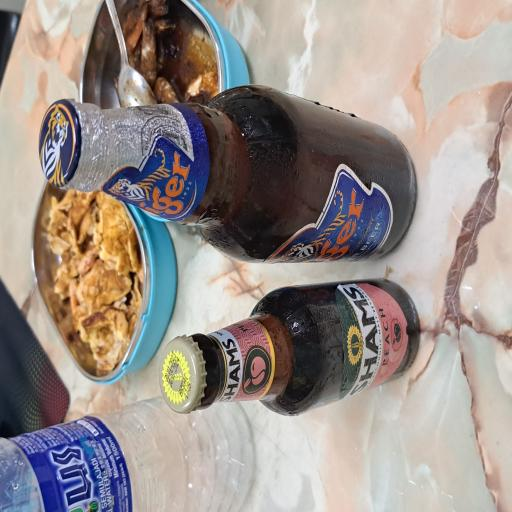glass bottle: (189, 52, 320, 512), (70, 214, 176, 512)
plastic bottle: (0, 0, 93, 341)
